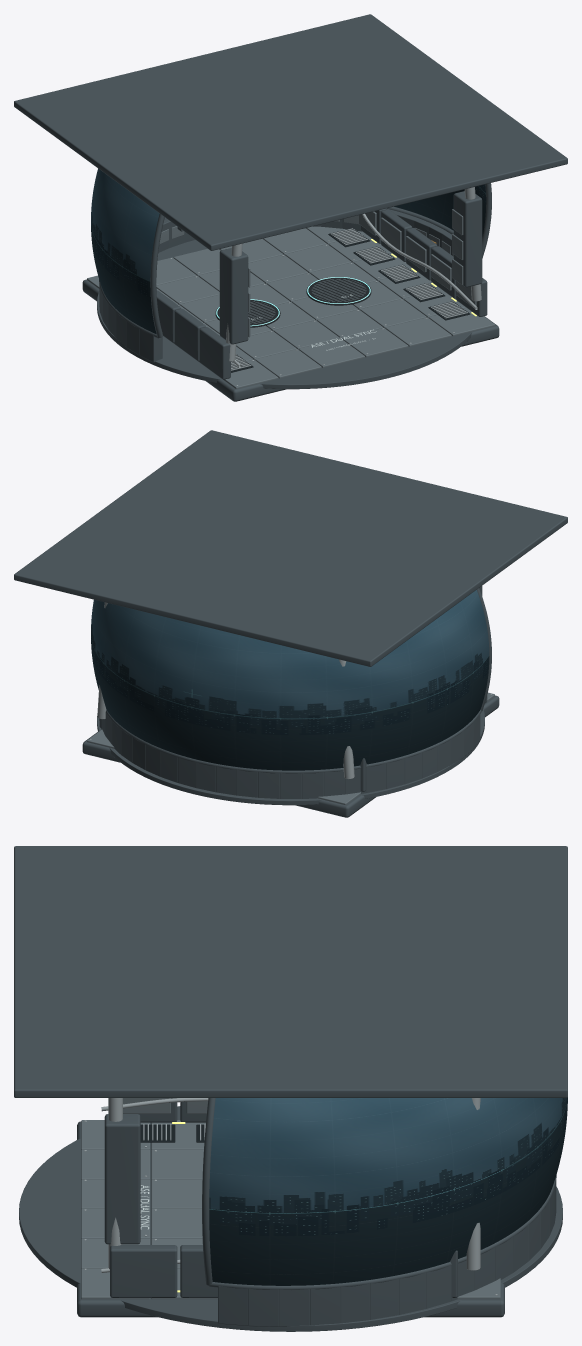
The model's file is Anseong_Cockpit_v02.fbx.
3 renders of one model, top to bottom at view 1: azimuth 30°, elevation 25°; view 2: azimuth 150°, elevation 25°; view 3: azimuth 270°, elevation 25°, orthographic. The views are drawn at different scales.
Visible parts, largest first — view 1: 08_Ceiling_Removable, 01_Deck, 09_Hull, 10_Display, 03_Station_R, 02_Station_L; view 2: 08_Ceiling_Removable, 10_Display, 09_Hull, 01_Deck; view 3: 08_Ceiling_Removable, 10_Display, 09_Hull, 01_Deck.
Boxes of the visible parts, x1=… form: 08_Ceiling_Removable: x1=14, y1=14, x2=567, y2=250; 01_Deck: x1=82, y1=226, x2=499, y2=401; 09_Hull: x1=97, y1=187, x2=487, y2=389; 10_Display: x1=91, y1=168, x2=491, y2=338; 03_Station_R: x1=306, y1=277, x2=371, y2=305; 02_Station_L: x1=215, y1=299, x2=280, y2=327; 08_Ceiling_Removable: x1=14, y1=430, x2=567, y2=666; 10_Display: x1=91, y1=588, x2=491, y2=773; 09_Hull: x1=97, y1=586, x2=487, y2=805; 01_Deck: x1=82, y1=692, x2=499, y2=817; 08_Ceiling_Removable: x1=14, y1=846, x2=567, y2=1097; 10_Display: x1=202, y1=1097, x2=567, y2=1289; 09_Hull: x1=19, y1=1098, x2=562, y2=1331; 01_Deck: x1=77, y1=1120, x2=504, y2=1317.
Size of the model in its own units: 8.25 by 4.09 by 7.9.
